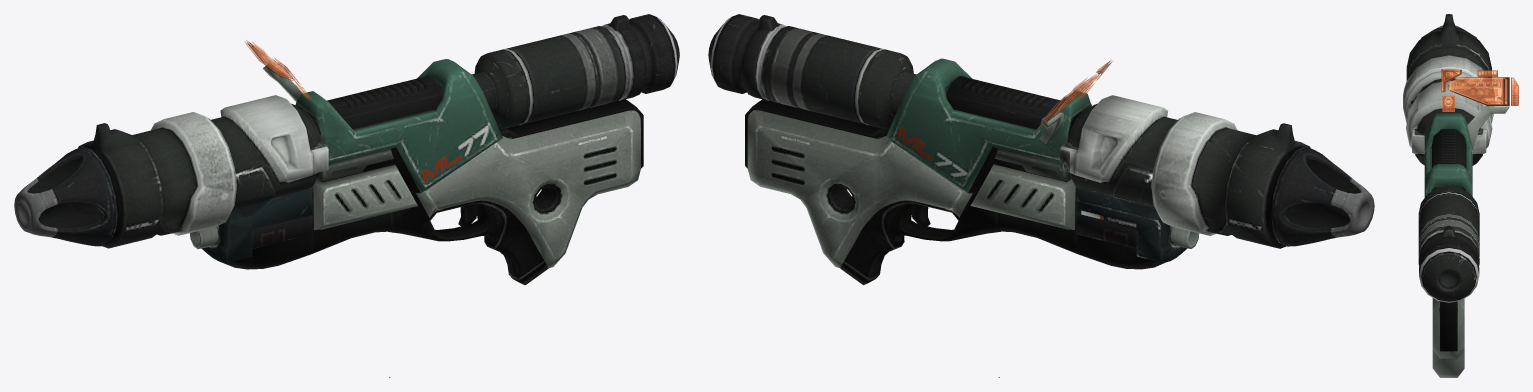
Rendered from missile_launcher.glb.
3 views of the same model, side by side, from view 1: azimuth 30°, elevation 25°; view 2: azimuth 150°, elevation 25°; view 3: azimuth 270°, elevation 25° (orthographic). The views are drawn at different scales.
Visible parts, largest first — view 1: Object_2, Object_5; view 2: Object_2, Object_5; view 3: Object_2, Object_5.
Part boxes in pixels (x1=…): Object_2: x1=14, y1=14, x2=679, y2=285; Object_5: x1=244, y1=40, x2=312, y2=100; Object_2: x1=708, y1=14, x2=1374, y2=285; Object_5: x1=1039, y1=60, x2=1112, y2=125; Object_2: x1=1403, y1=14, x2=1509, y2=377; Object_5: x1=1441, y1=69, x2=1518, y2=111.
Size of the model in its own units: 74.94 by 37.77 by 14.84.
Materials: 5 (2 with a texture image).
